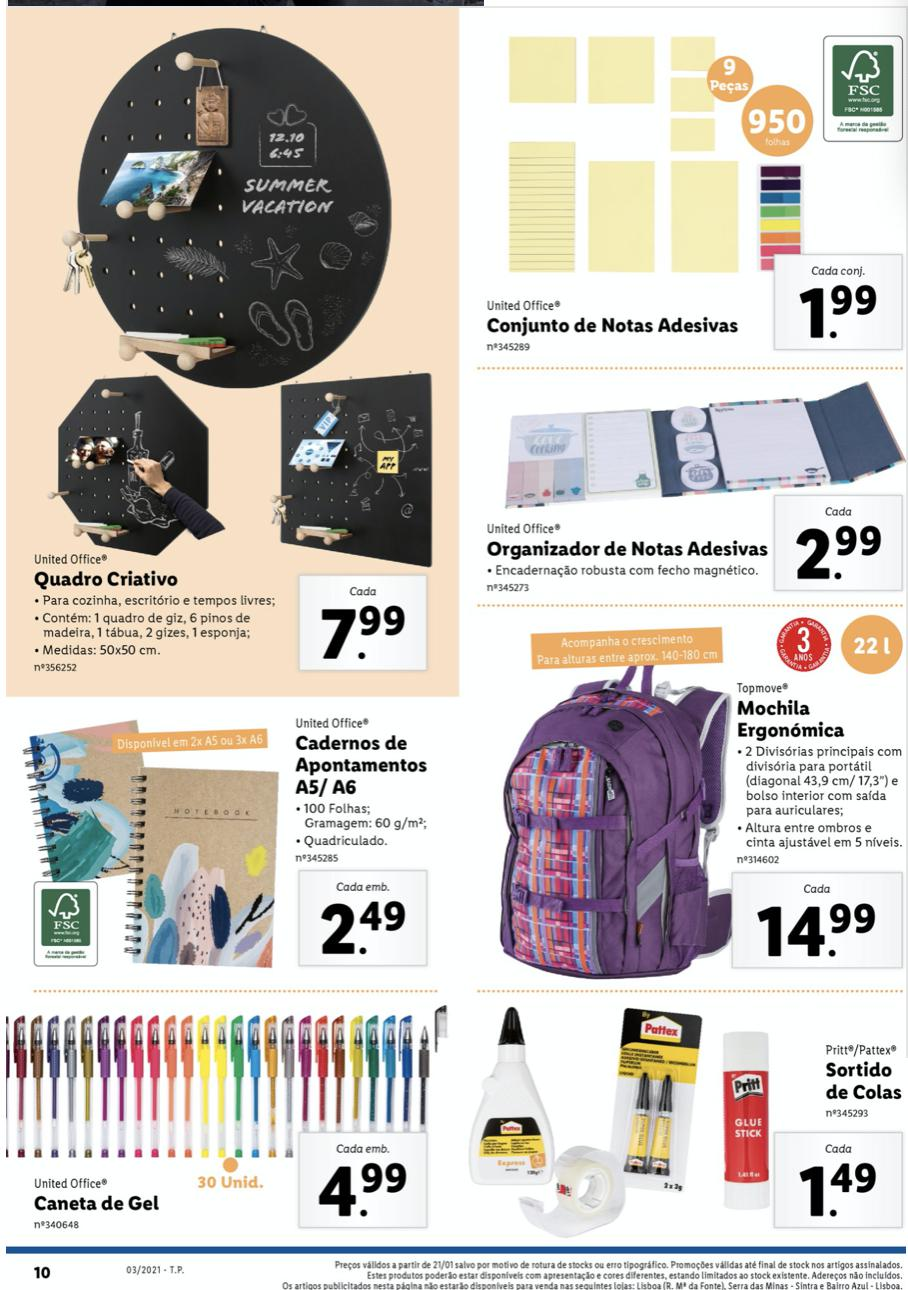name: (288, 731, 436, 798), (484, 535, 774, 561), (482, 314, 744, 339), (730, 693, 852, 741), (28, 561, 185, 596), (817, 1060, 906, 1106), (25, 1192, 166, 1220)
price: (753, 896, 880, 965), (309, 893, 411, 968), (309, 1155, 412, 1227), (317, 598, 414, 669), (792, 520, 885, 588), (795, 1157, 880, 1228), (798, 277, 880, 346)
product: (20, 15, 441, 688), (471, 612, 908, 973), (476, 22, 908, 357), (11, 709, 465, 977), (4, 998, 463, 1241), (463, 998, 906, 1238), (472, 377, 904, 595)
